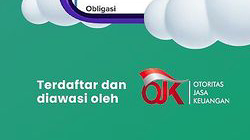ojk: (136, 67, 231, 106)
